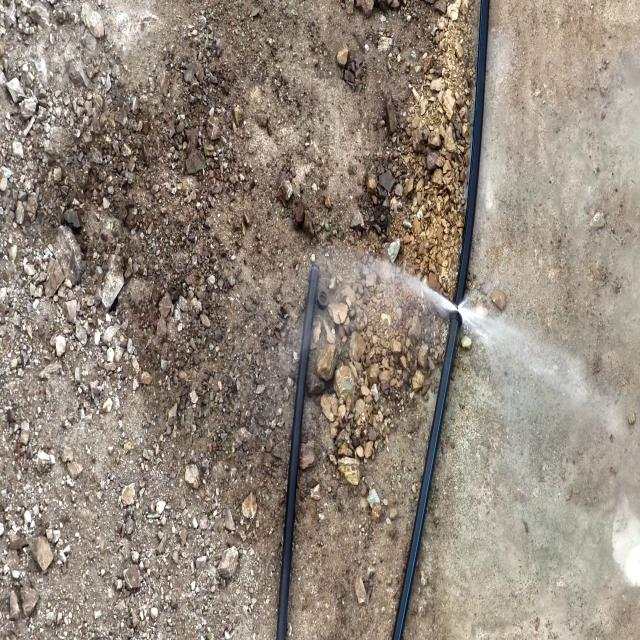leak: (356, 244, 540, 380)
